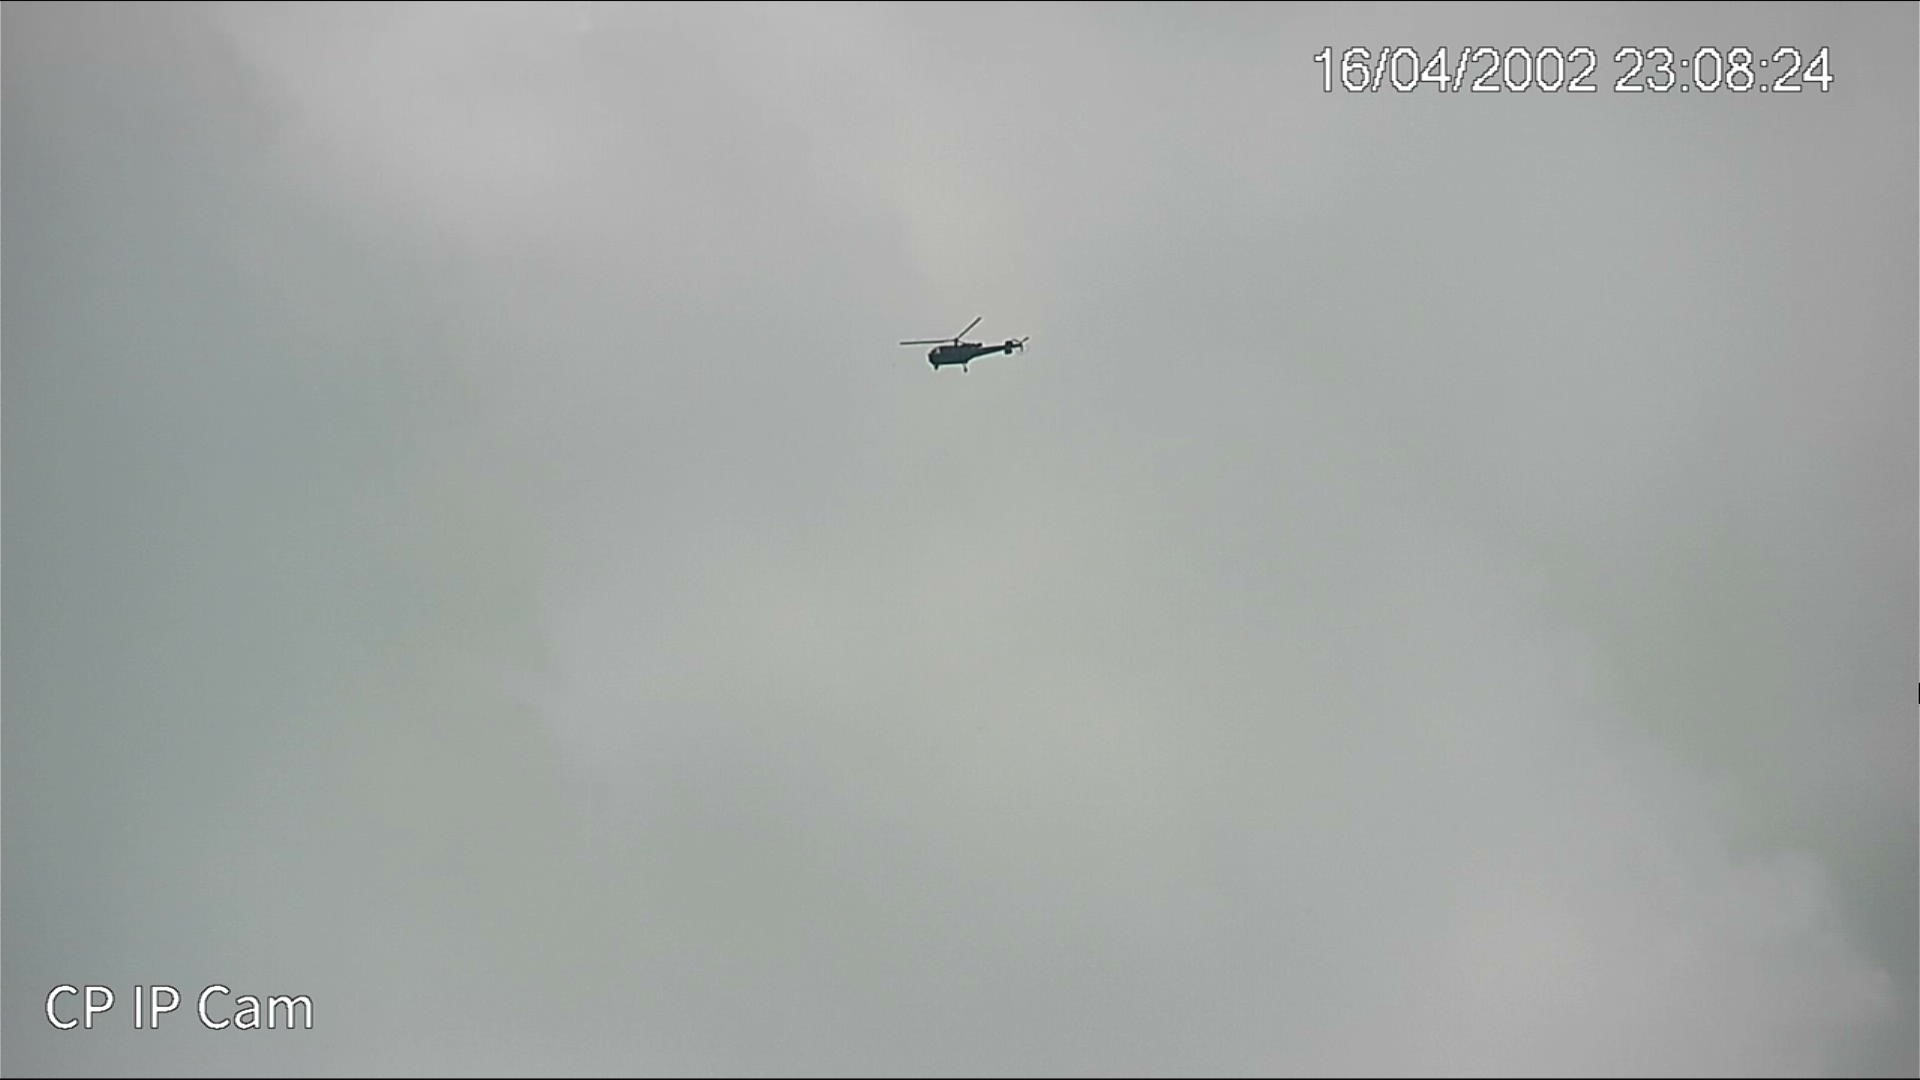SU_30: (898, 315, 1033, 371)
